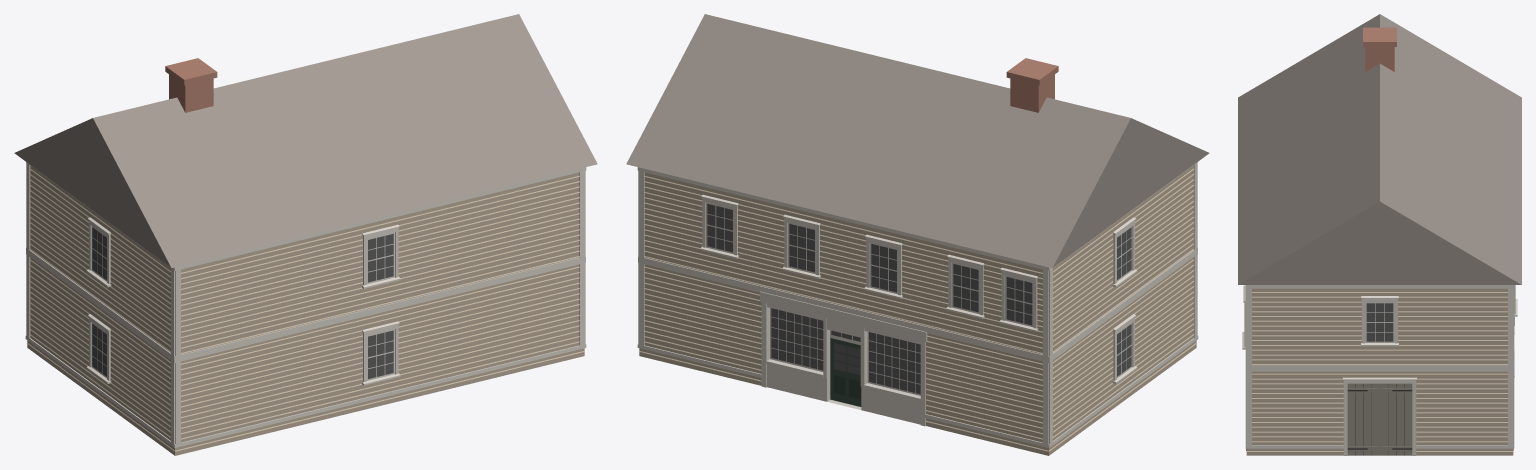
The model's file is chicago_democrat_office__frame_1833.glb.
The picture shows the model from 3 angles, left to right: view 1: azimuth 30°, elevation 25°; view 2: azimuth 150°, elevation 25°; view 3: azimuth 270°, elevation 25°; orthographic projection. The views are drawn at different scales.
Visible parts, largest first — view 1: chicago_democrat_office__frame_1833; view 2: chicago_democrat_office__frame_1833; view 3: chicago_democrat_office__frame_1833.
Boxes of the visible parts, x1,y1,x2,y2 form: chicago_democrat_office__frame_1833: (14,14,597,455); chicago_democrat_office__frame_1833: (626,14,1209,455); chicago_democrat_office__frame_1833: (1238,14,1521,455).
Bounding box in the file's own units: 12.69 × 8.85 × 8.12.
